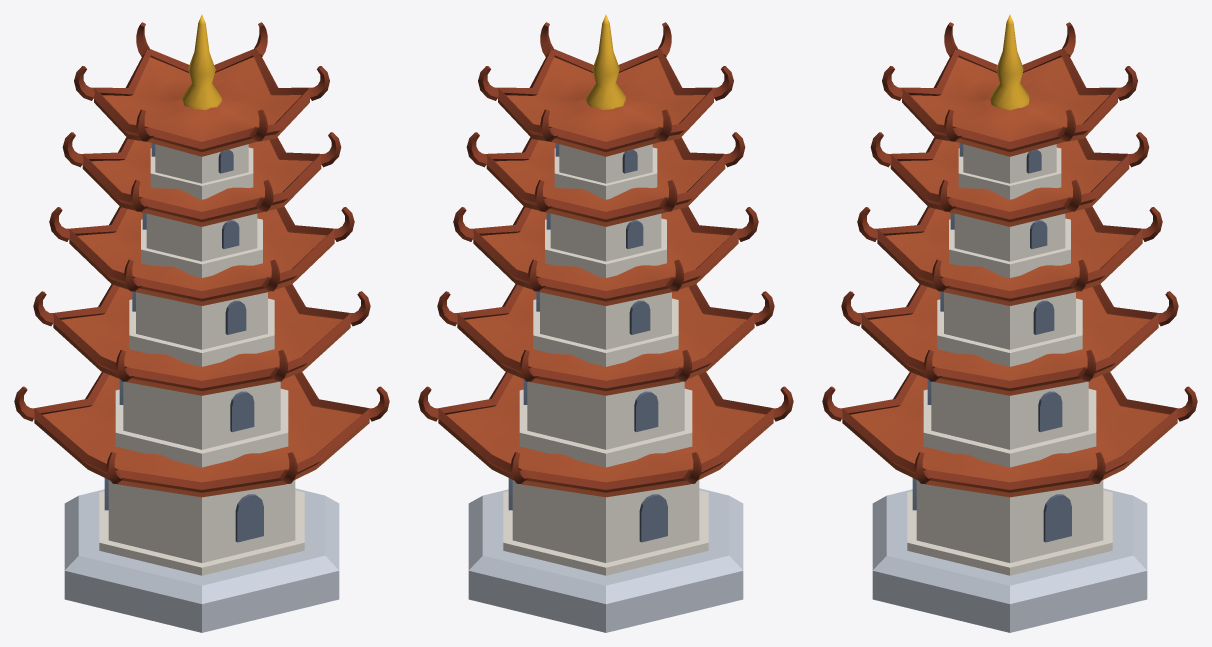
The model's file is stupa_tower.glb.
3 views of the same model, side by side, from view 1: azimuth 30°, elevation 25°; view 2: azimuth 150°, elevation 25°; view 3: azimuth 270°, elevation 25° (orthographic).
Parts seen in each view (by area): view 1: stupa_tower; view 2: stupa_tower; view 3: stupa_tower.
Part boxes in pixels (x1=…): stupa_tower: x1=14, y1=14, x2=389, y2=632; stupa_tower: x1=418, y1=14, x2=793, y2=632; stupa_tower: x1=822, y1=14, x2=1197, y2=632.
Size of the model in its own units: 2.56 by 4.8 by 2.96.
